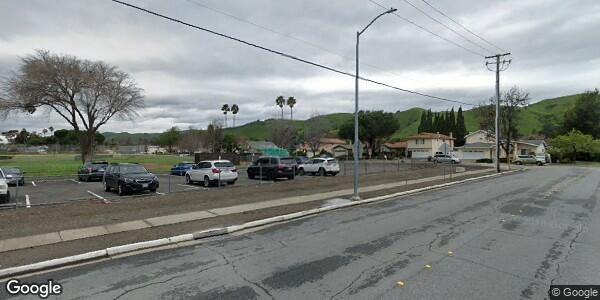Steel_Pole: (351, 7, 397, 202)
Wood_Pole: (484, 50, 514, 174)
